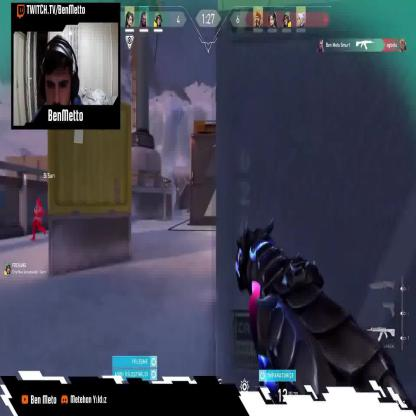enemy: (30, 198, 47, 242)
enemy_head: (36, 198, 41, 208)
